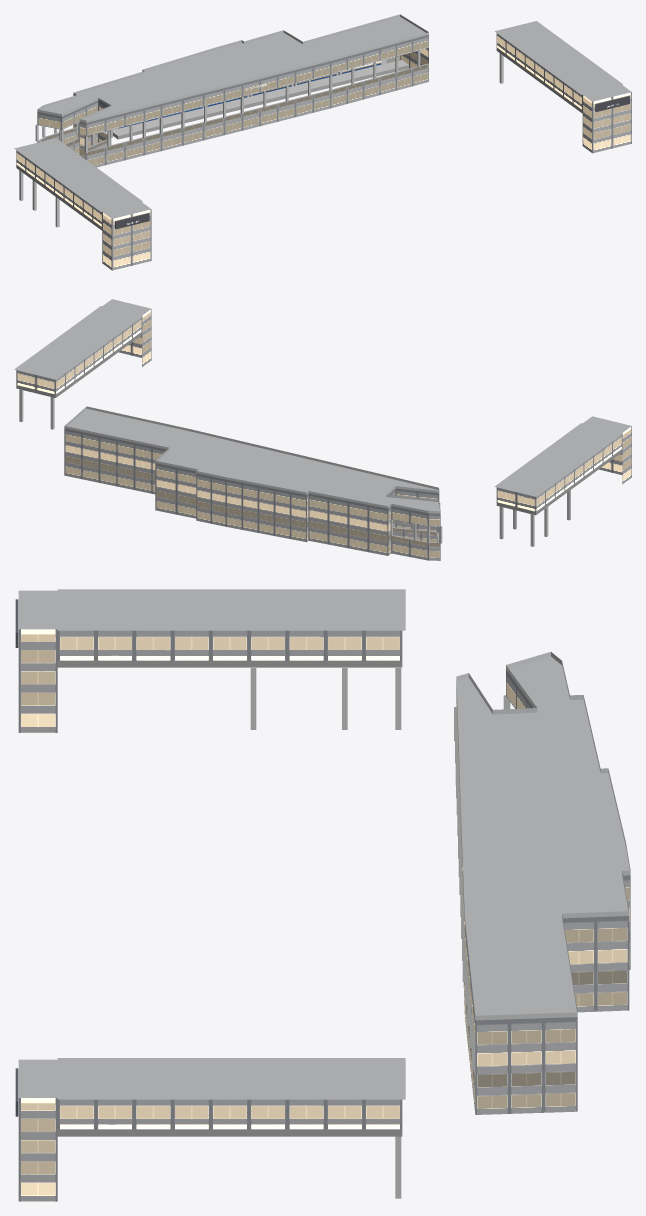
The model's file is hamamatsucho_station.glb.
3 views of the same model, one above another, from view 1: azimuth 30°, elevation 25°; view 2: azimuth 150°, elevation 25°; view 3: azimuth 270°, elevation 25° (orthographic). The views are drawn at different scales.
Visible parts, largest first — view 1: HM_Station; view 2: HM_Station; view 3: HM_Station.
Boxes of the visible parts, x1,y1,x2,y2 form: HM_Station: (14, 14, 631, 270); HM_Station: (14, 299, 631, 560); HM_Station: (15, 589, 630, 1201).
Size of the model in its own units: 185 by 17.5 by 94.3.
15 materials, 3 textured.
